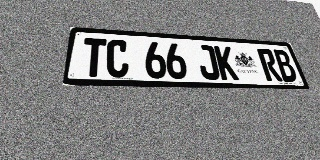6: (144, 41, 167, 79), (164, 43, 188, 79)
B: (272, 49, 299, 82)
C: (106, 39, 129, 78)
J: (196, 45, 221, 80)
K: (214, 46, 239, 80)
R: (256, 48, 283, 81)
T: (81, 38, 106, 77)
